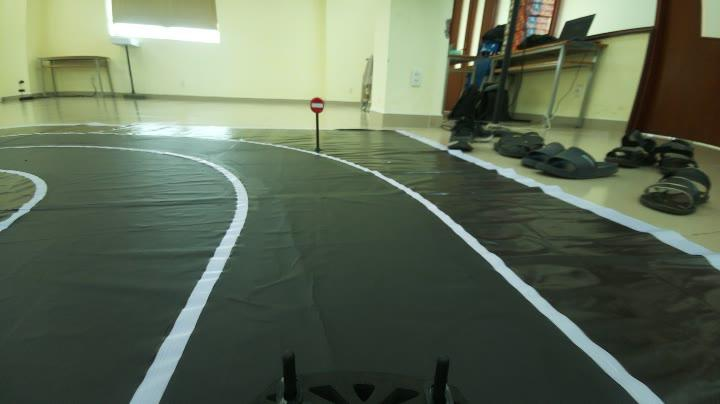no_entry: (305, 92, 325, 116)
